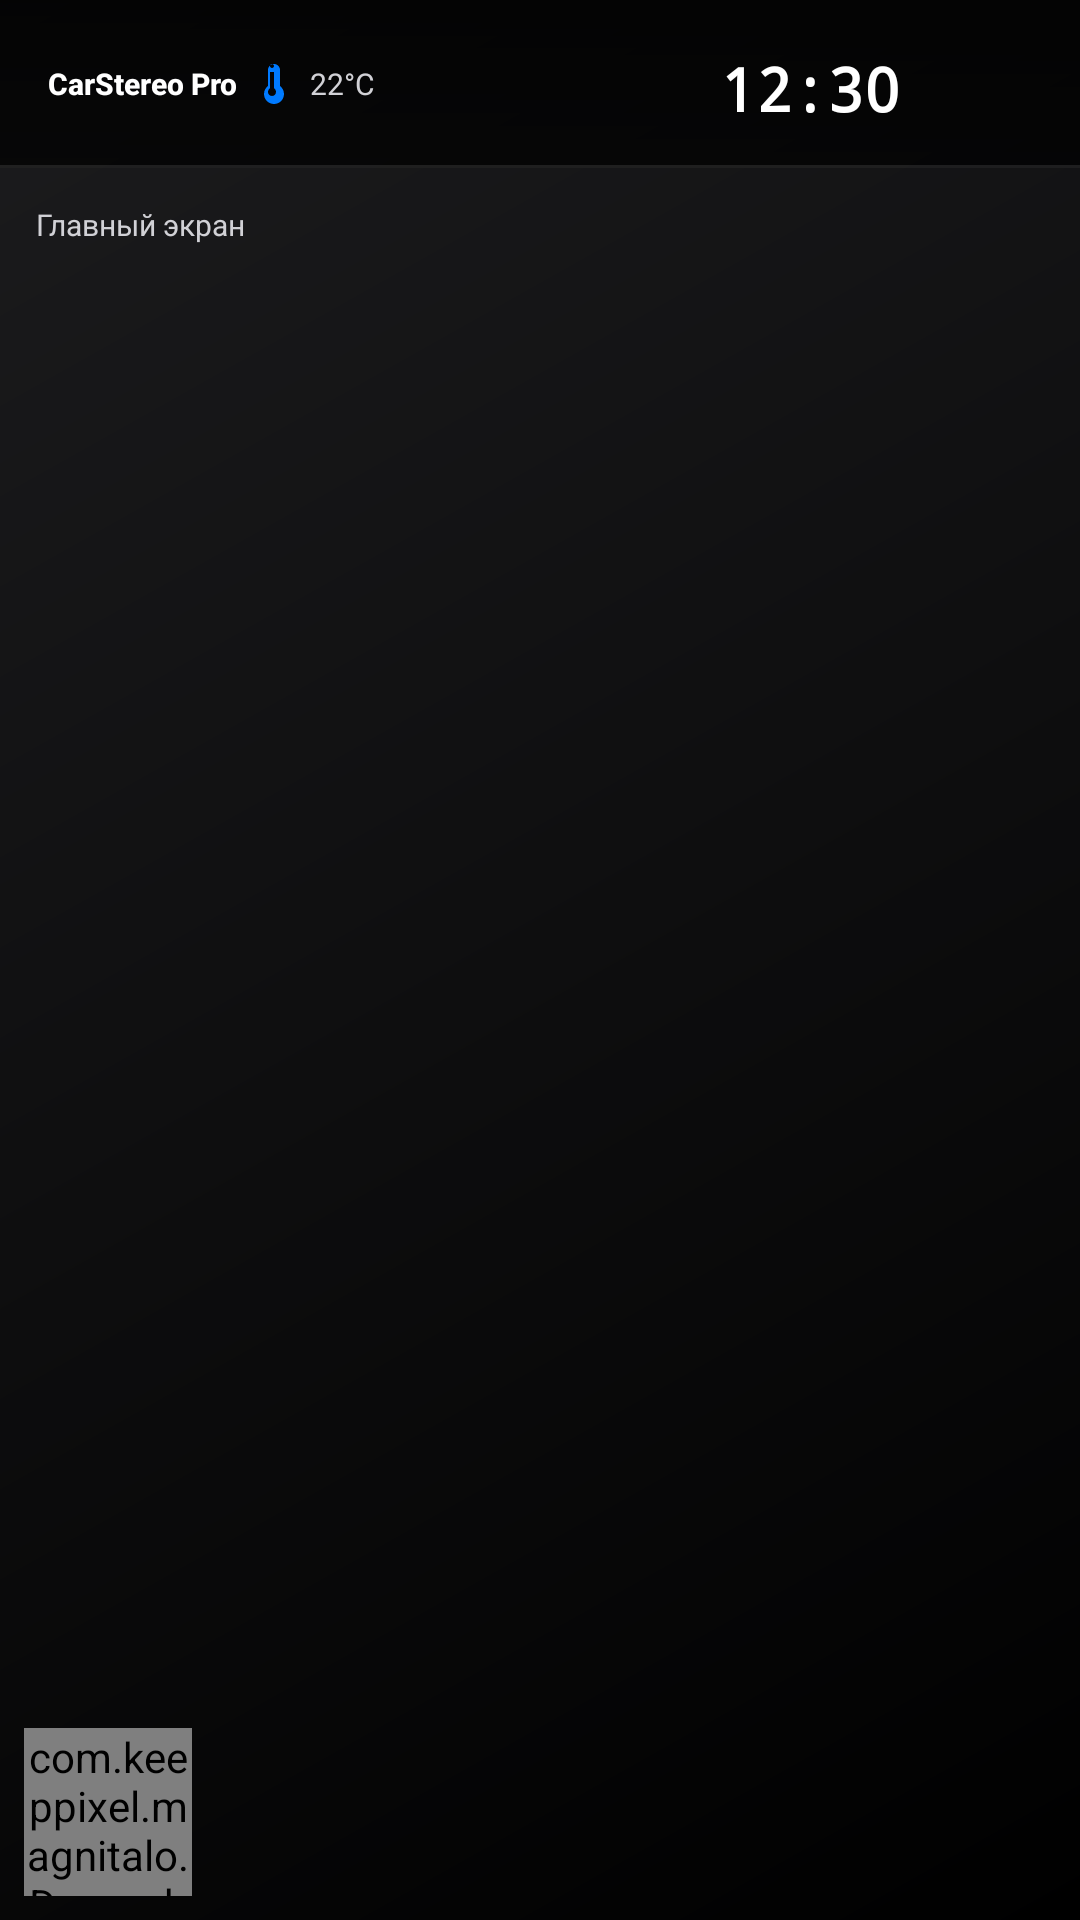

Icons on this 1080 x 1920 Android screen, each with its box as (x1, y1, x2, y2):
temperature: (264, 64, 284, 104)
